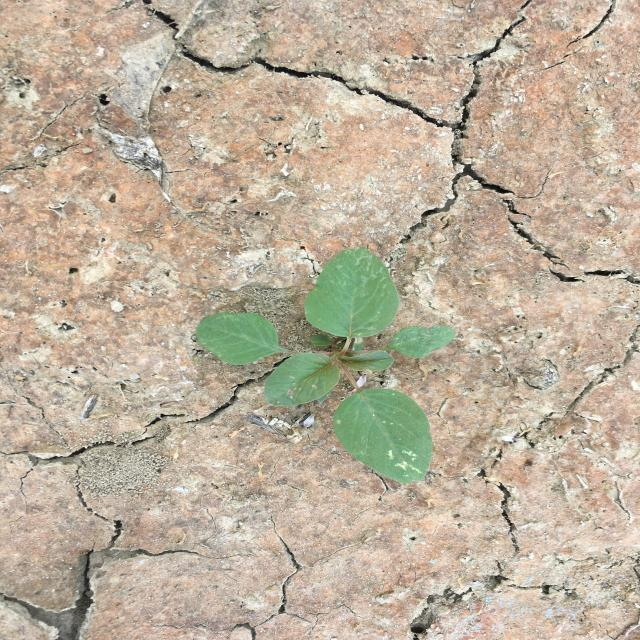PalmerAmaranth: (196, 247, 456, 484)
